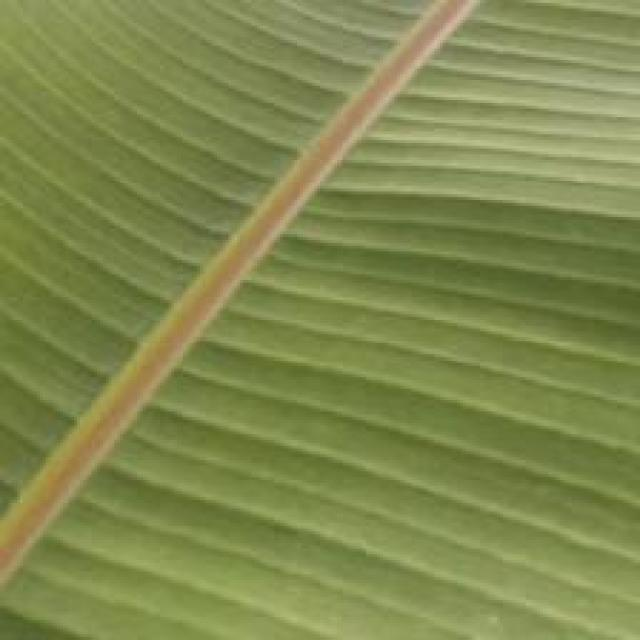Black_leaf_spot: (0, 0, 603, 626)
